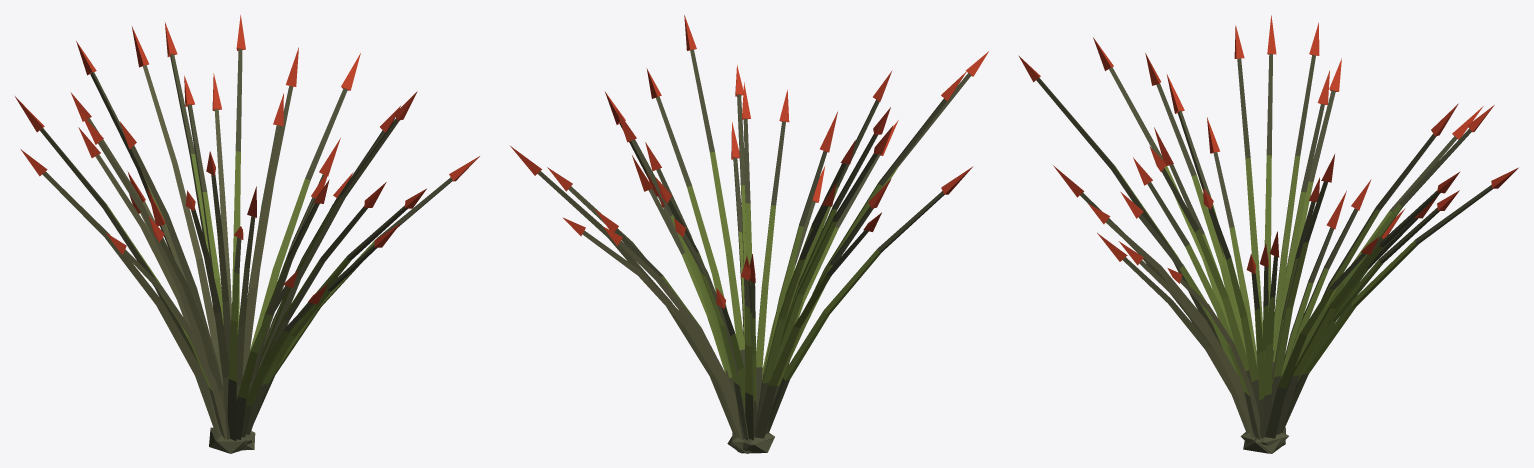
Rendered from ocotillo.glb.
3 renders of one model, left to right at view 1: azimuth 30°, elevation 25°; view 2: azimuth 150°, elevation 25°; view 3: azimuth 270°, elevation 25°, orthographic.
Parts seen in each view (by area): view 1: ocotillo_v1, ocotillo_v0, ocotillo_v2; view 2: ocotillo_v1, ocotillo_v0, ocotillo_v2; view 3: ocotillo_v1, ocotillo_v2, ocotillo_v0.
Boxes of the visible parts, x1,y1,x2,y2 form: ocotillo_v1: (15,15,479,453); ocotillo_v0: (20,41,417,450); ocotillo_v2: (78,26,426,451); ocotillo_v1: (510,70,893,453); ocotillo_v0: (594,15,973,452); ocotillo_v2: (603,51,988,453); ocotillo_v1: (1118,15,1518,453); ocotillo_v2: (1018,25,1459,447); ocotillo_v0: (1093,37,1494,453).
Size of the model in its own units: 4.93 by 4.69 by 5.81.
